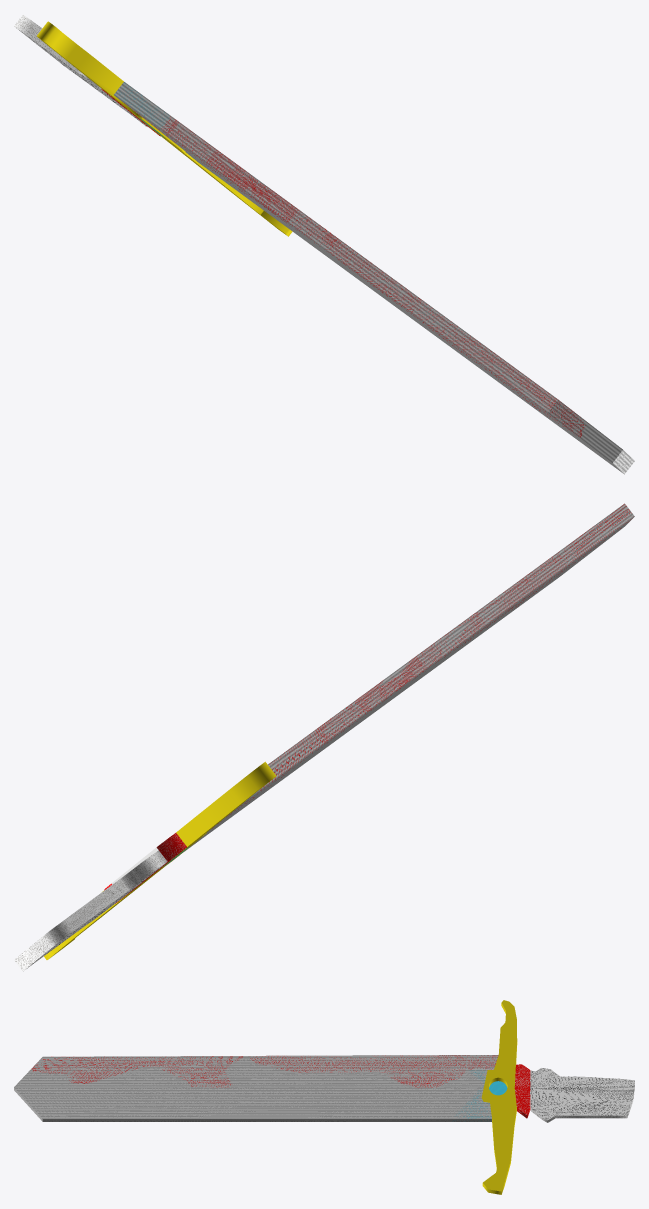
The model's file is model_scale.obj.
3 views of the same model, one above another, from view 1: azimuth 30°, elevation 25°; view 2: azimuth 150°, elevation 25°; view 3: azimuth 270°, elevation 25° (orthographic). The views are drawn at different scales.
Visible parts, largest first — view 1: mesh1_mesh1-geometry; view 2: mesh1_mesh1-geometry; view 3: mesh1_mesh1-geometry.
Part boxes in pixels (x1=…): mesh1_mesh1-geometry: x1=14, y1=14, x2=634, y2=474; mesh1_mesh1-geometry: x1=14, y1=503, x2=634, y2=971; mesh1_mesh1-geometry: x1=14, y1=1000, x2=634, y2=1194.
Bounding box in the file's own units: 0.0483 × 0.0483 × 0.1984.
10 materials, 2 textured.
